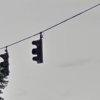Traffic light: (28, 32, 53, 66)
